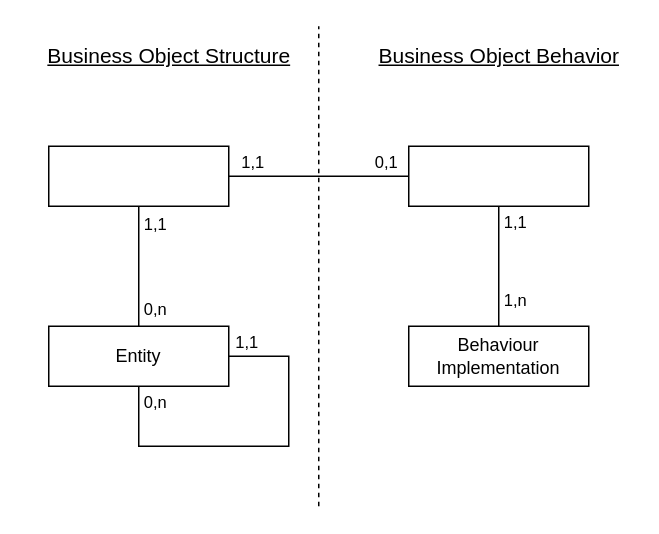
This 659x534 diagram has some shape labels left out. Here are the shapes that lost their labels. From the top down, the centre of each, then its label:
At point 138,175: "Root Entity".
At point 498,175: "Behaviour Definition".
